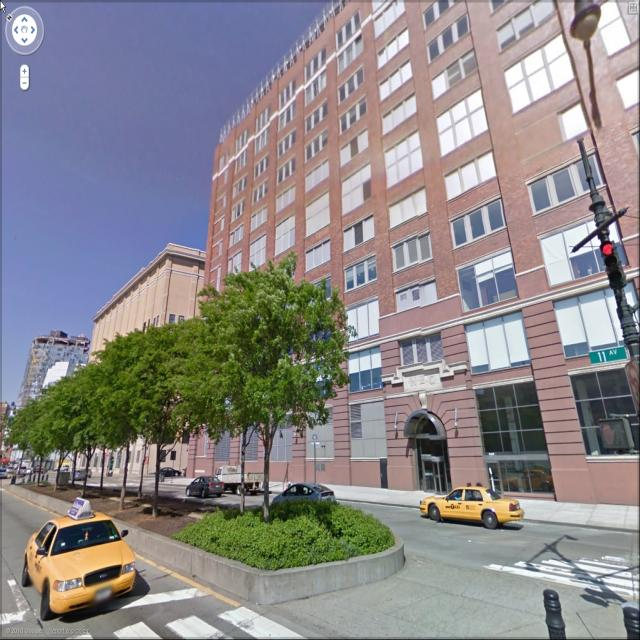b_1: (209, 9, 640, 280), (90, 244, 214, 359), (22, 321, 98, 388)
b_2: (202, 41, 633, 501), (85, 258, 216, 470), (13, 328, 96, 476)
